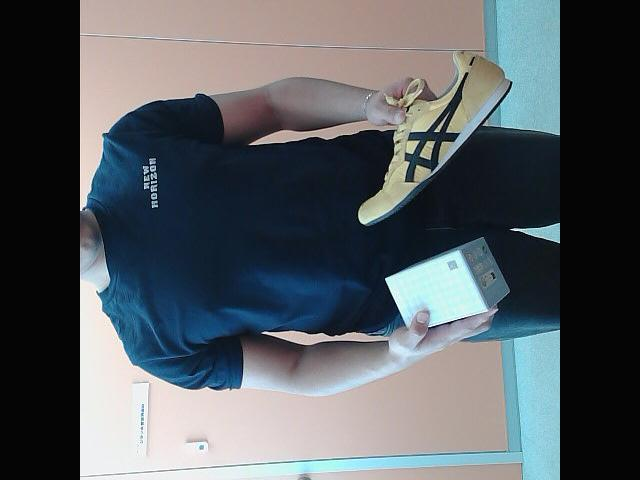Blind_box: (375, 236, 514, 338)
Shoes: (352, 49, 508, 230)
